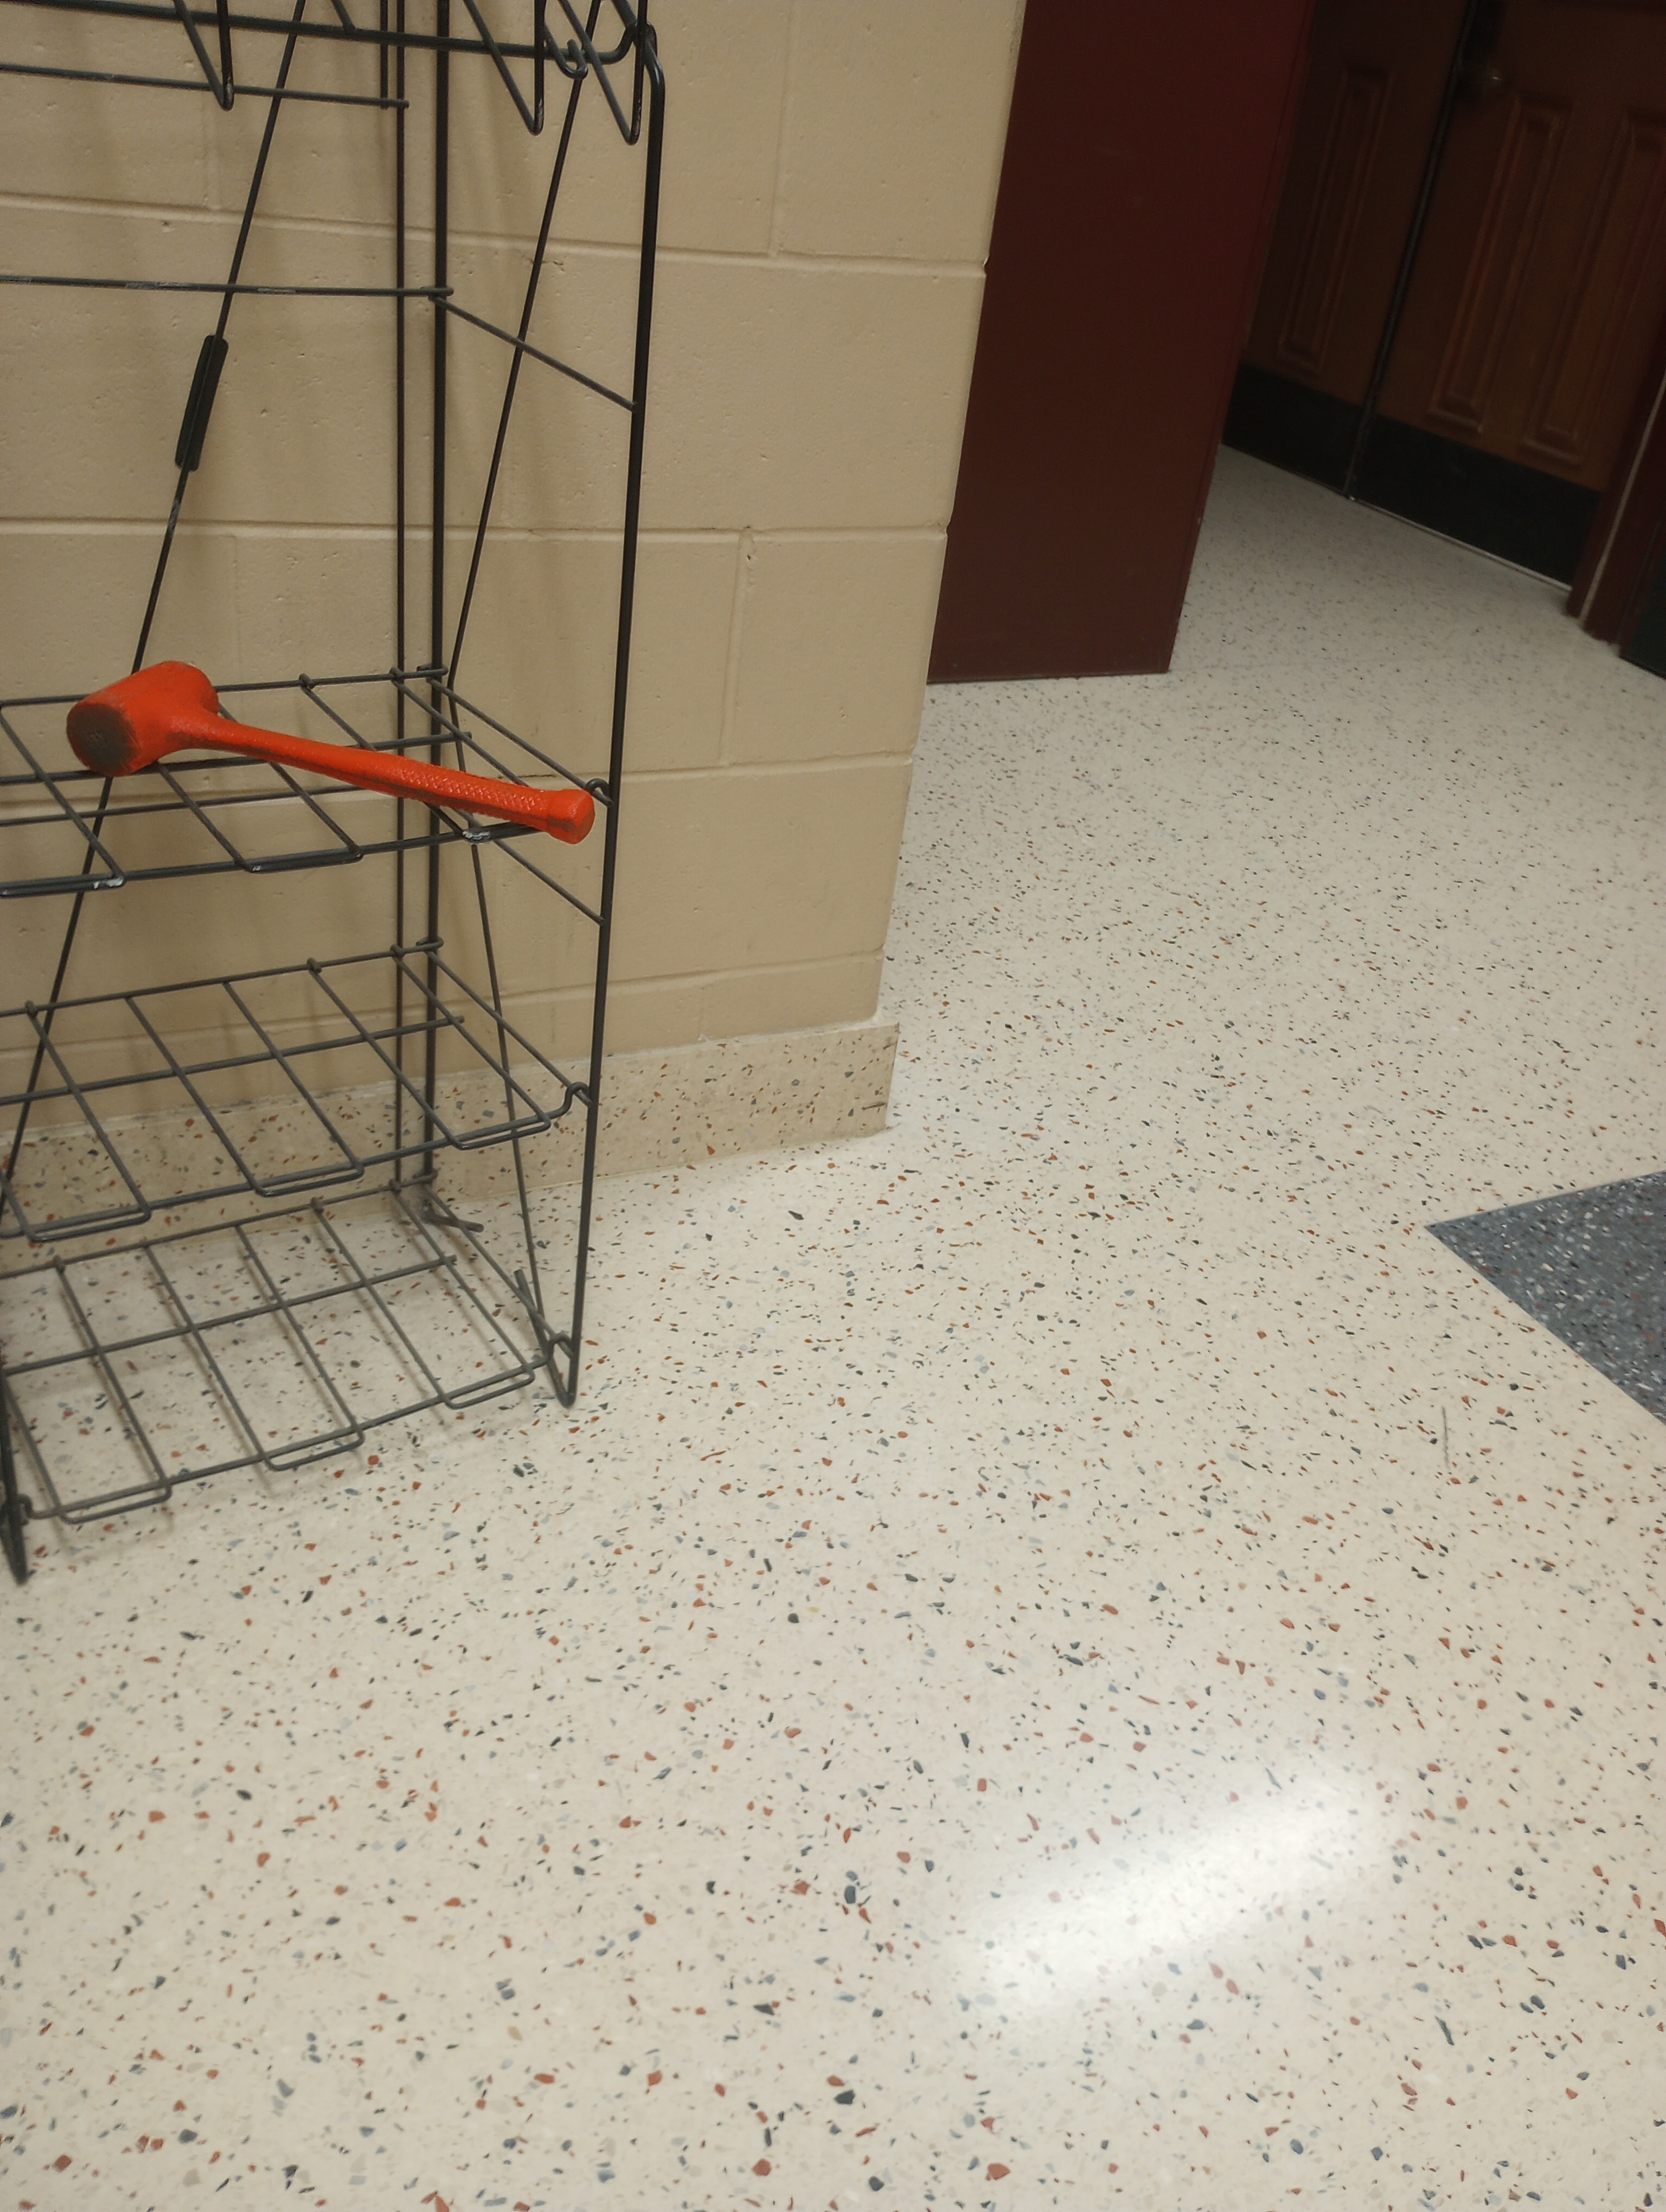bottle: (61, 645, 600, 853)
